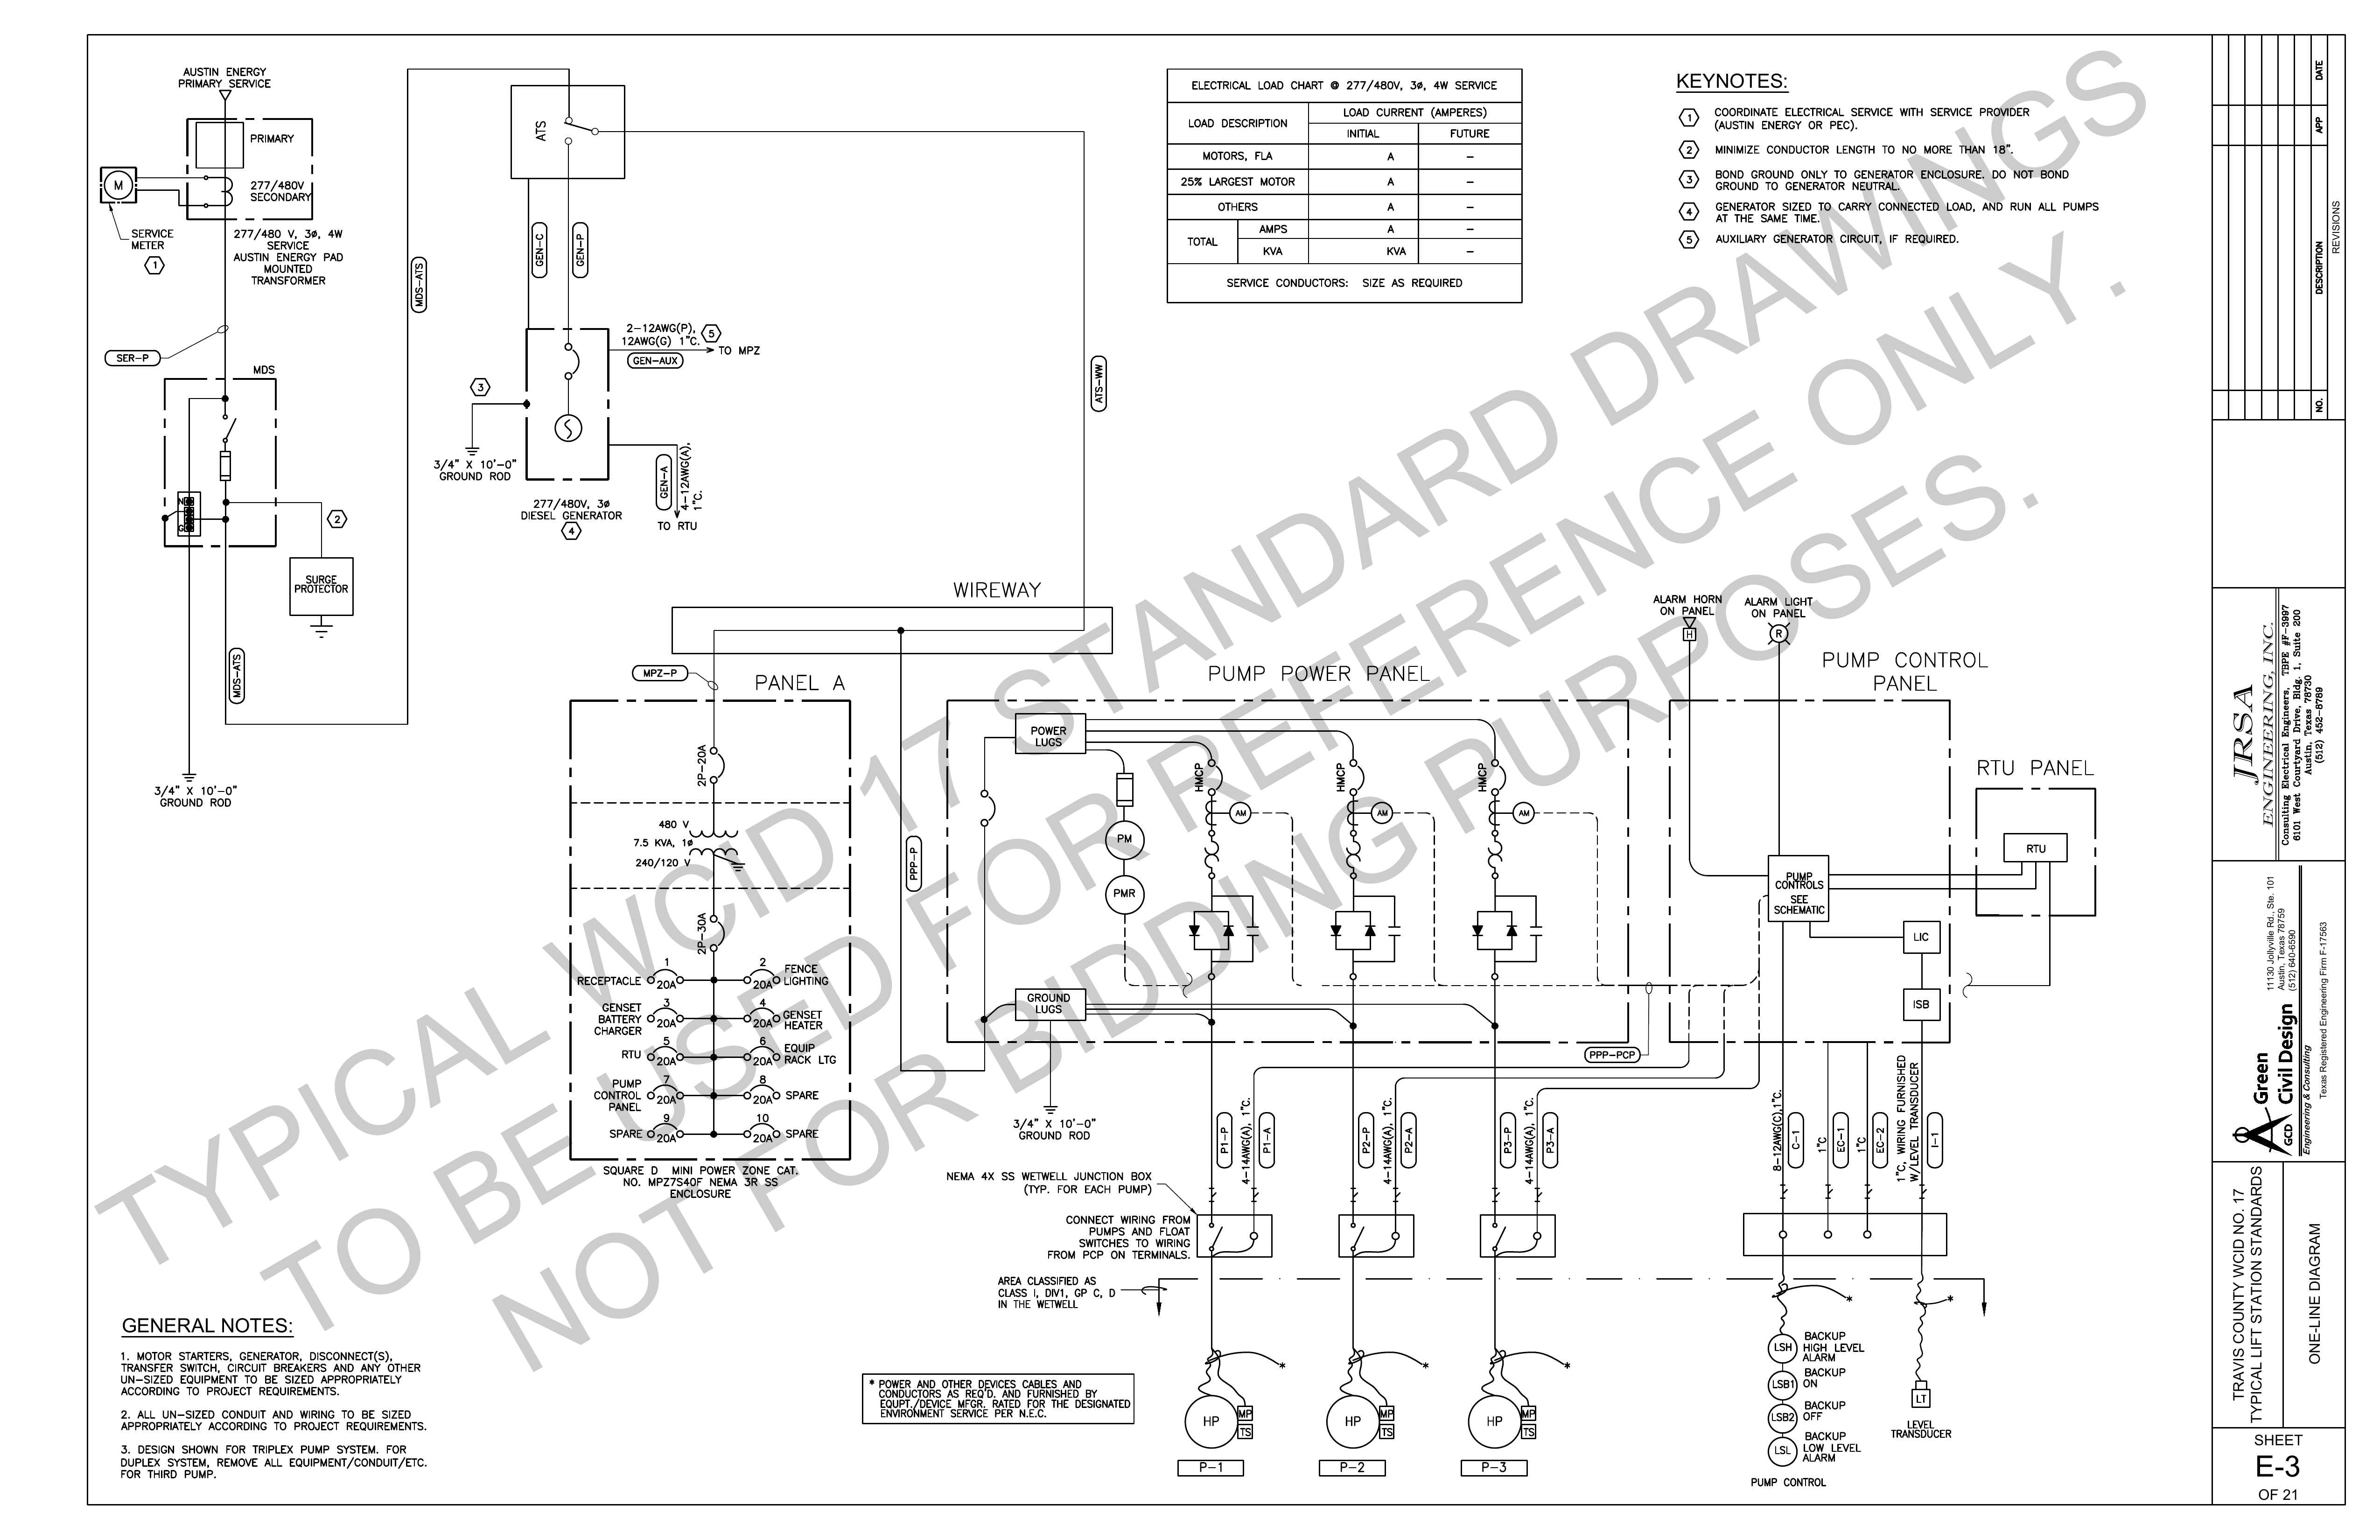circuit_breaker: (685, 725, 739, 789), (696, 898, 741, 956), (550, 328, 592, 387), (736, 959, 788, 994), (970, 775, 1001, 831), (739, 1037, 788, 1072), (642, 1113, 696, 1145), (739, 1075, 791, 1106), (633, 961, 689, 989), (638, 1077, 690, 1106), (642, 999, 690, 1030), (739, 1001, 788, 1032), (739, 1113, 784, 1146), (637, 1041, 692, 1067)
fuse: (1096, 761, 1152, 810), (208, 446, 239, 487)
ground: (295, 619, 354, 643), (1036, 1094, 1070, 1120), (172, 761, 206, 786), (458, 437, 487, 460), (718, 862, 762, 876)
switch: (546, 106, 605, 151), (210, 408, 243, 446), (1344, 1212, 1369, 1256), (1200, 1216, 1226, 1254), (1487, 1212, 1507, 1257)
transformer: (675, 817, 751, 878)
